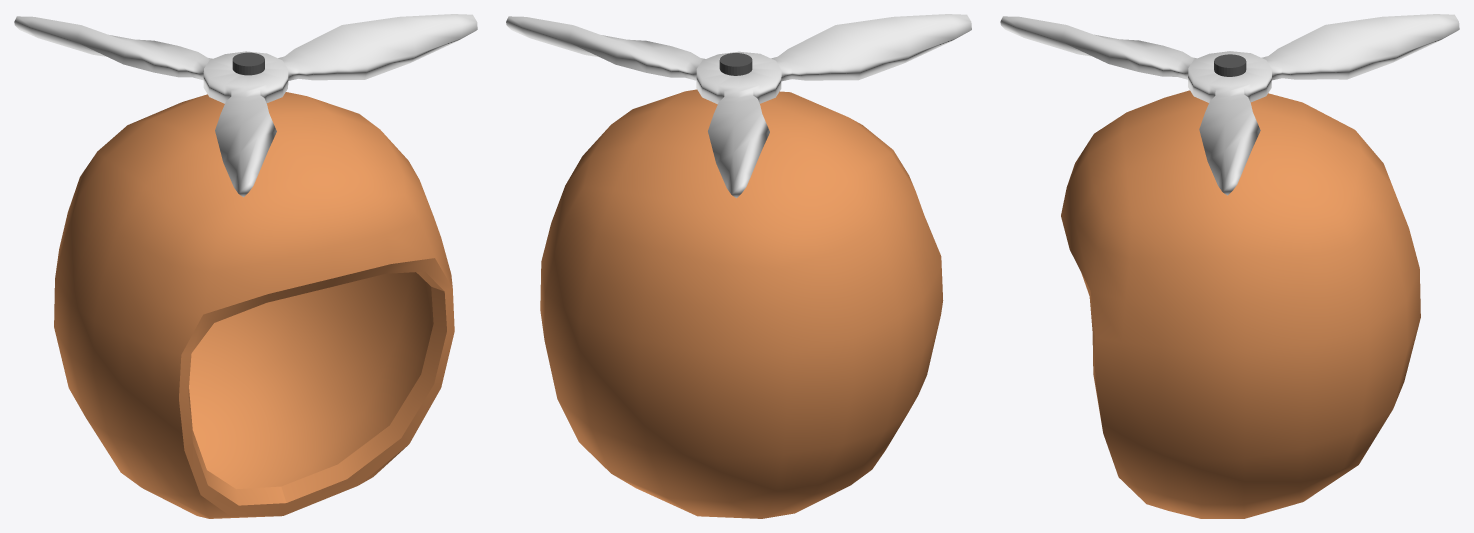
The model's file is enemy_a.glb.
3 views of the same model, side by side, from view 1: azimuth 30°, elevation 25°; view 2: azimuth 150°, elevation 25°; view 3: azimuth 270°, elevation 25° (orthographic).
Parts seen in each view (by area): view 1: Cube, propeller, Cylinder; view 2: Cube, propeller, Cylinder; view 3: Cube, propeller, Cylinder.
Part boxes in pixels (x1,y1,x2,y2): Cube: [54, 92, 454, 518]; propeller: [14, 14, 477, 197]; Cylinder: [232, 52, 264, 75]; Cube: [540, 89, 943, 518]; propeller: [506, 14, 971, 198]; Cylinder: [719, 53, 752, 75]; Cube: [1061, 90, 1420, 518]; propeller: [1000, 14, 1459, 195]; Cylinder: [1214, 54, 1246, 76].
Size of the model in its own units: 1.71 by 1.82 by 1.72.
